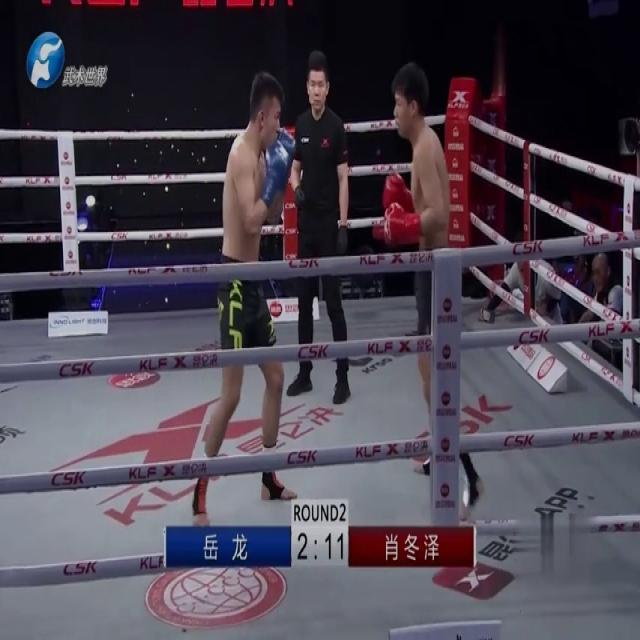fight: (186, 59, 464, 522)
non-fight: (286, 59, 351, 402)
